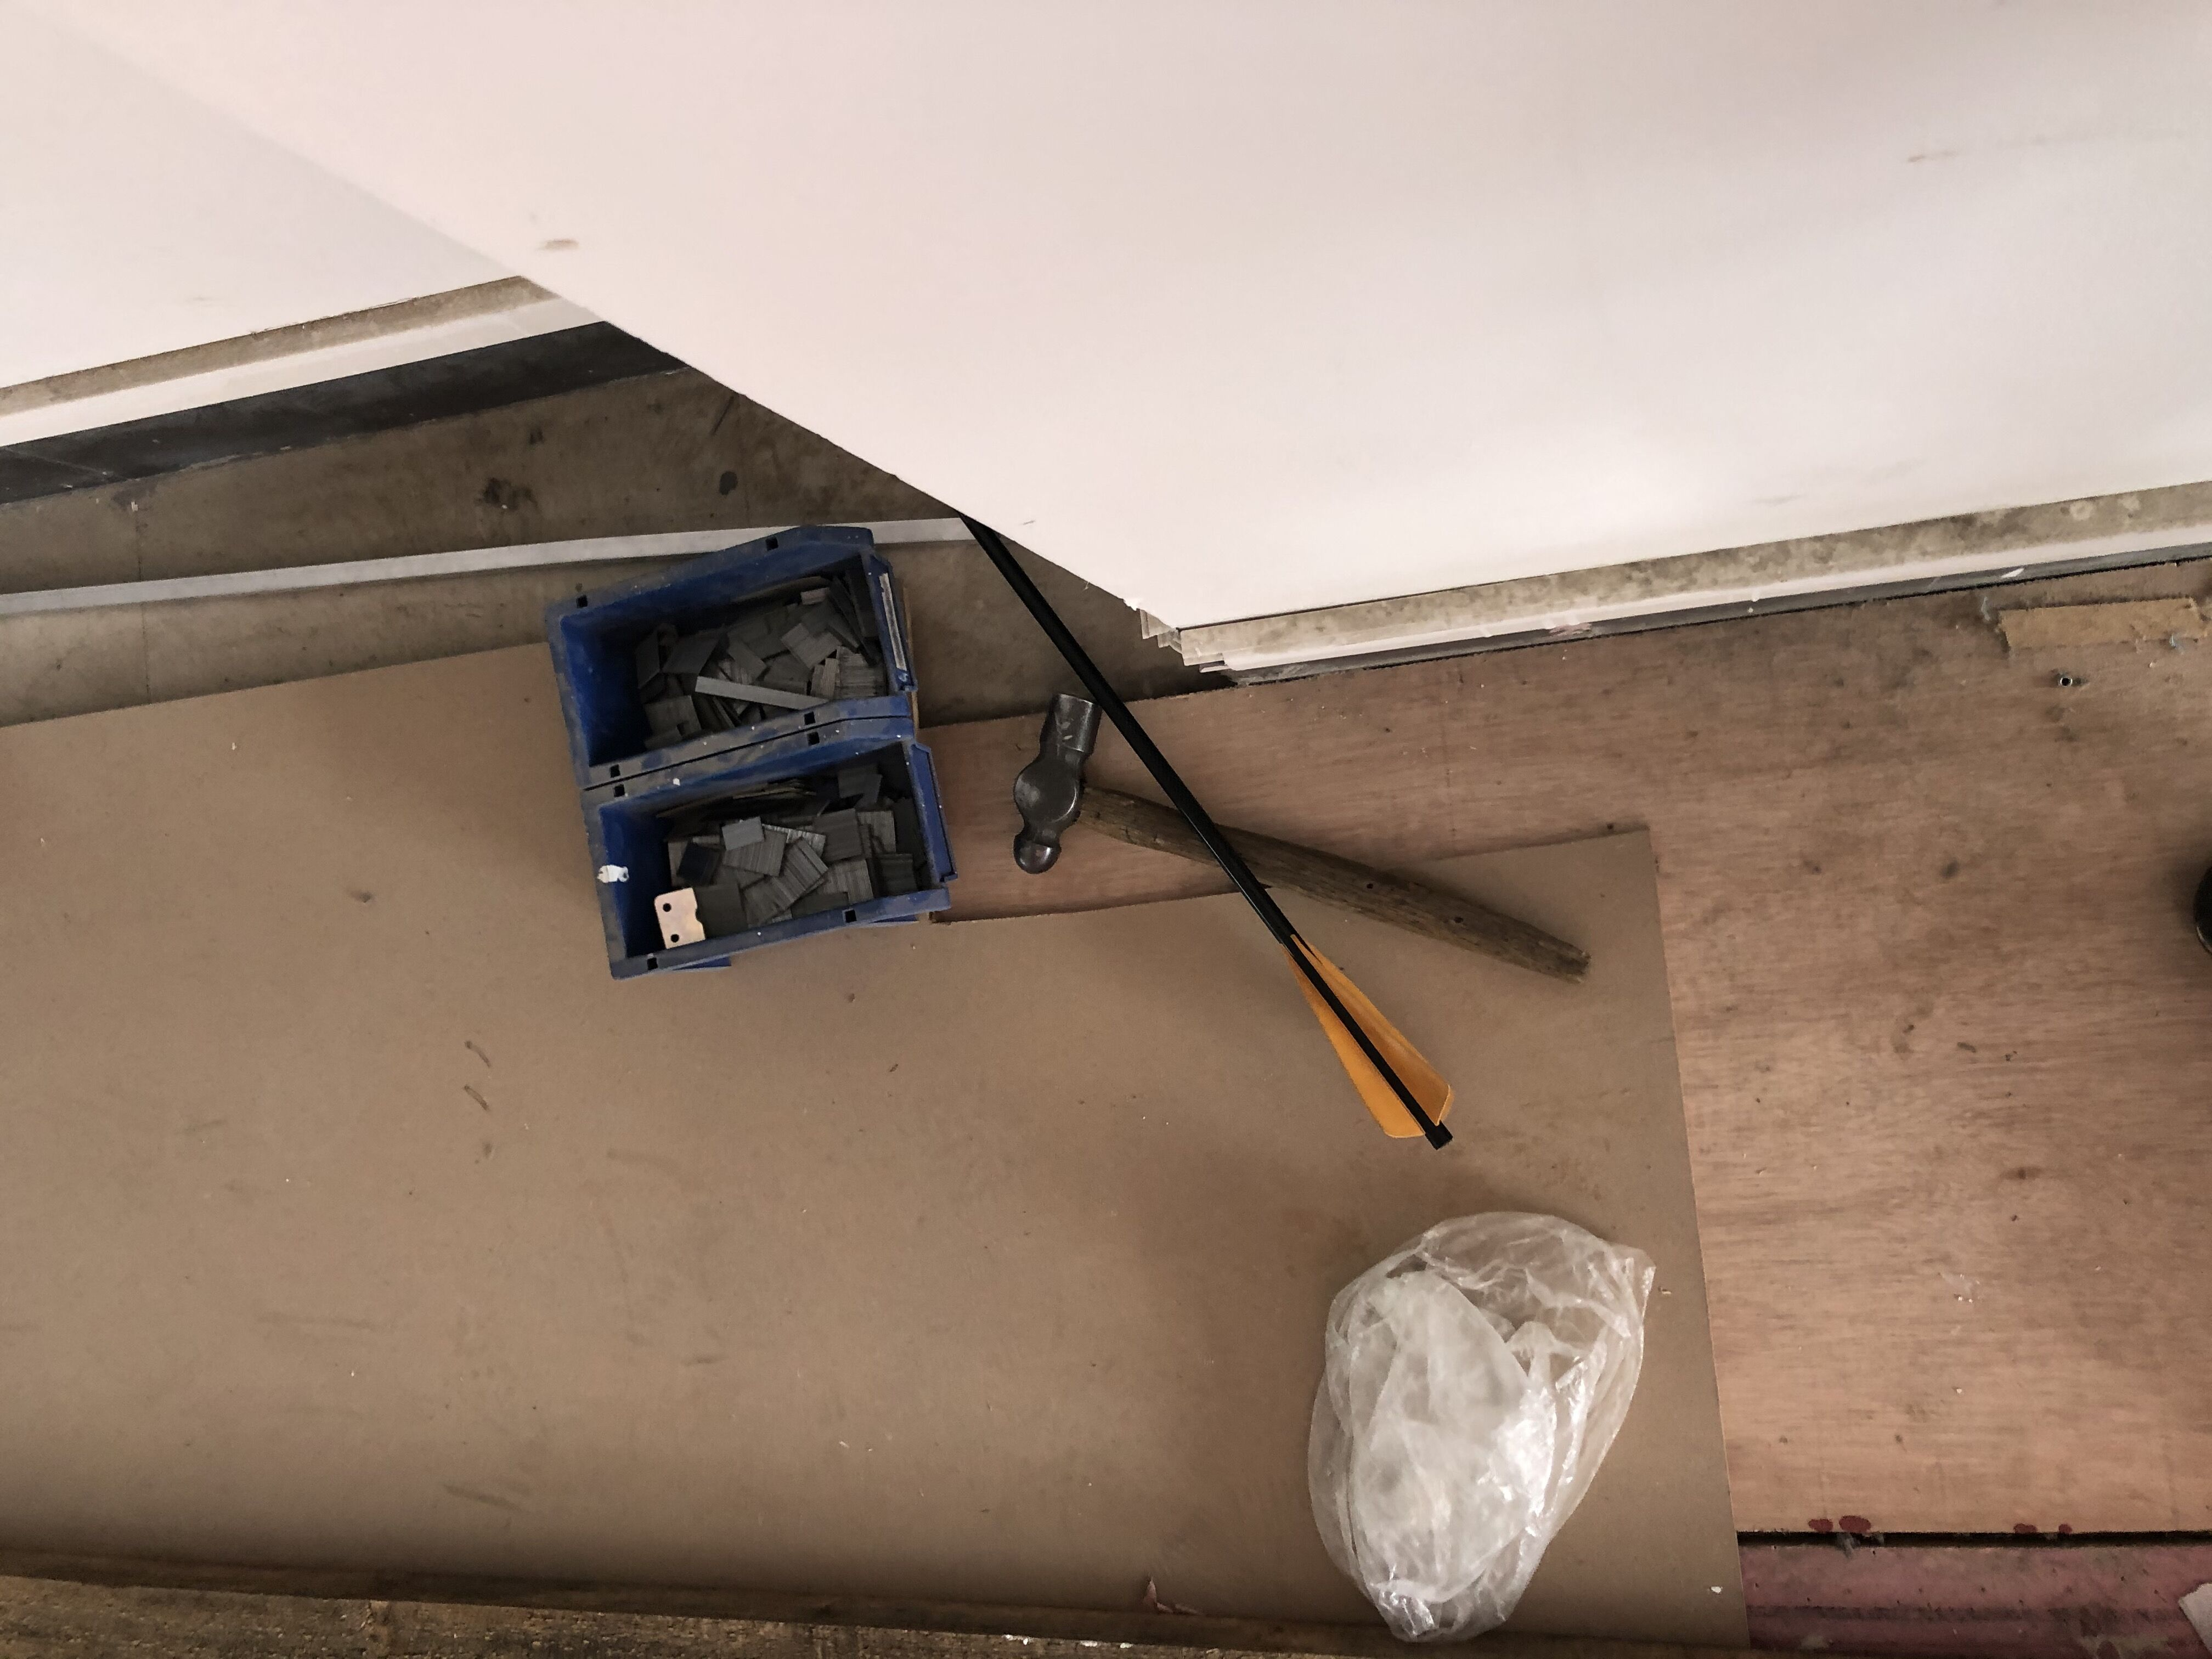arrow: (963, 519, 1456, 1154)
